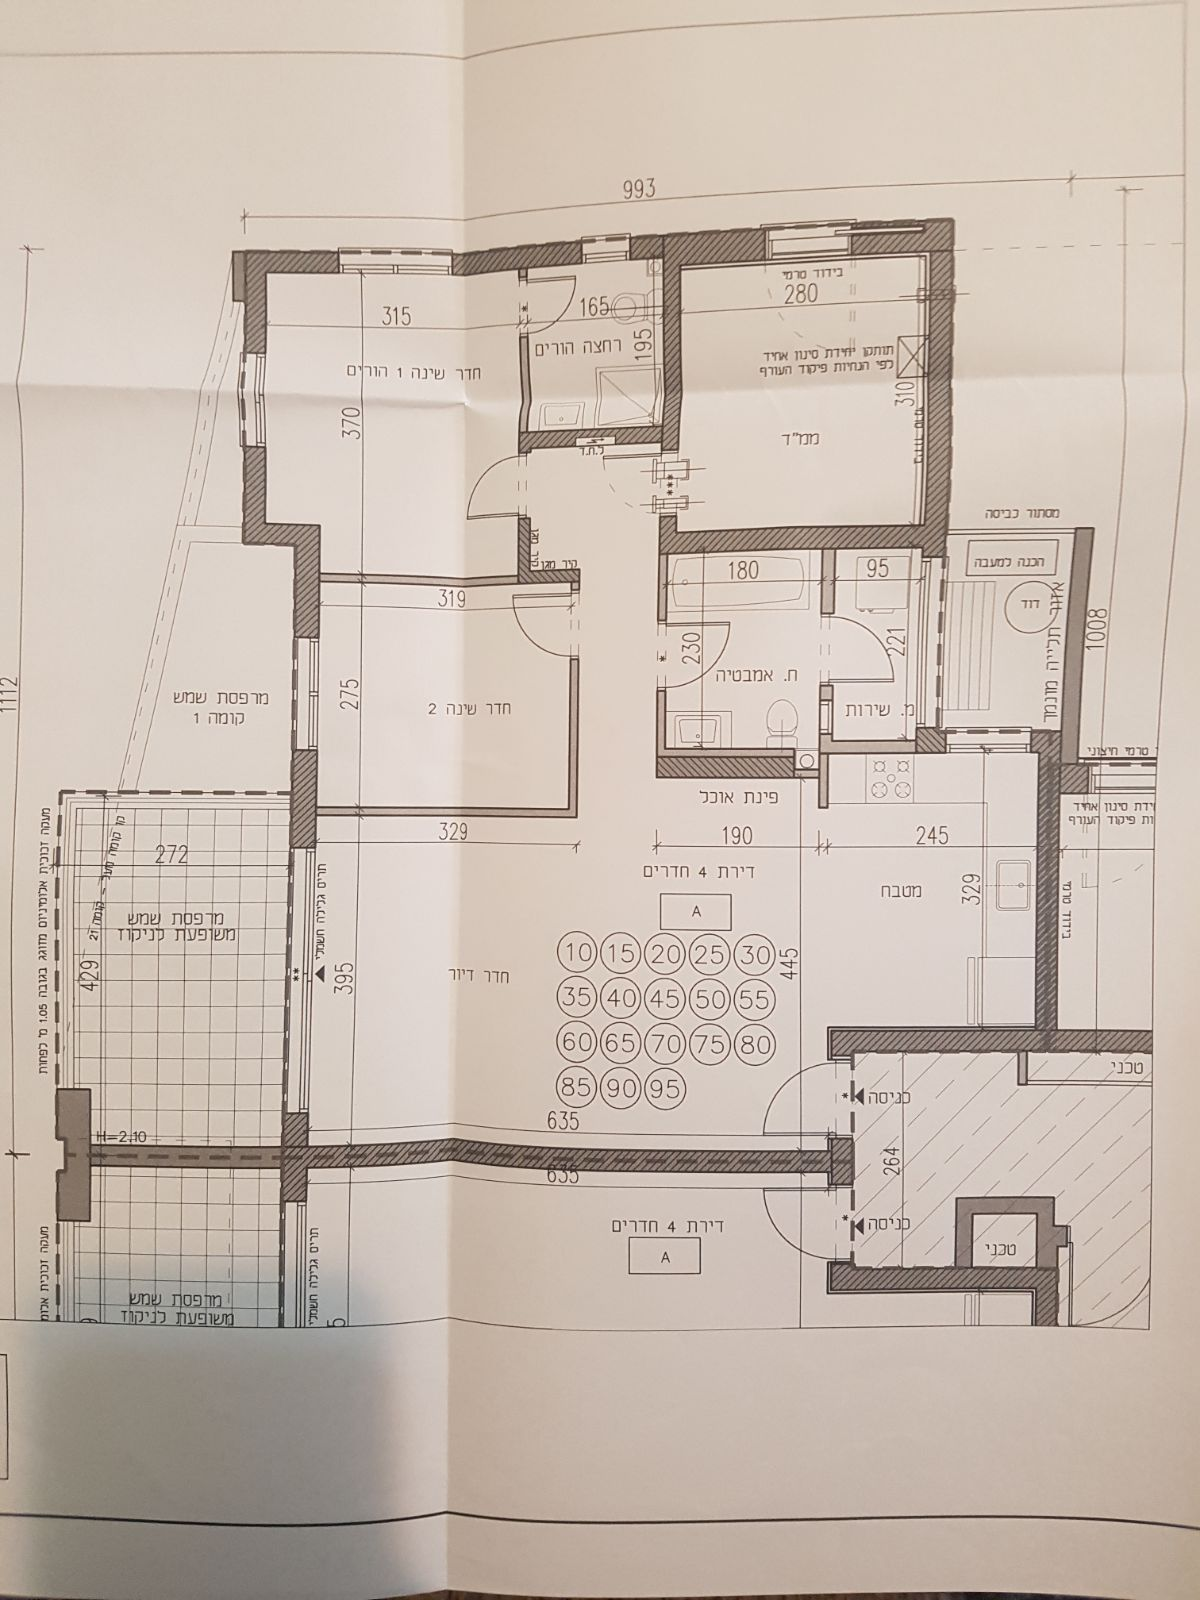door: (753, 1186, 892, 1262), (761, 1057, 884, 1138), (808, 616, 908, 687), (498, 588, 600, 654), (455, 457, 555, 523), (662, 620, 739, 685), (508, 278, 581, 330)
wall: (296, 751, 324, 848)
window: (339, 242, 453, 280), (236, 351, 271, 446), (581, 227, 629, 265)
